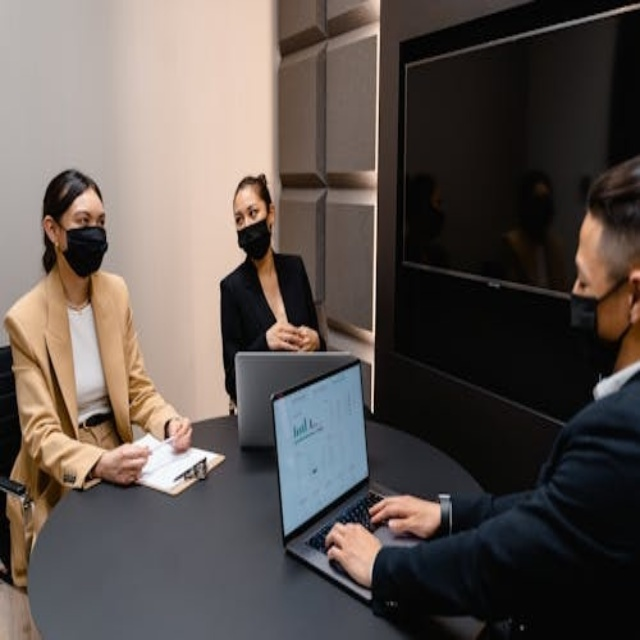Mascara: (561, 284, 630, 371), (60, 225, 109, 279), (236, 213, 275, 263)
Sin_gafas: (61, 204, 110, 231), (568, 256, 605, 288), (236, 198, 268, 225)
Sin_guantes: (322, 521, 381, 591), (368, 492, 448, 540), (97, 439, 152, 486), (161, 411, 193, 454), (265, 321, 303, 351)
